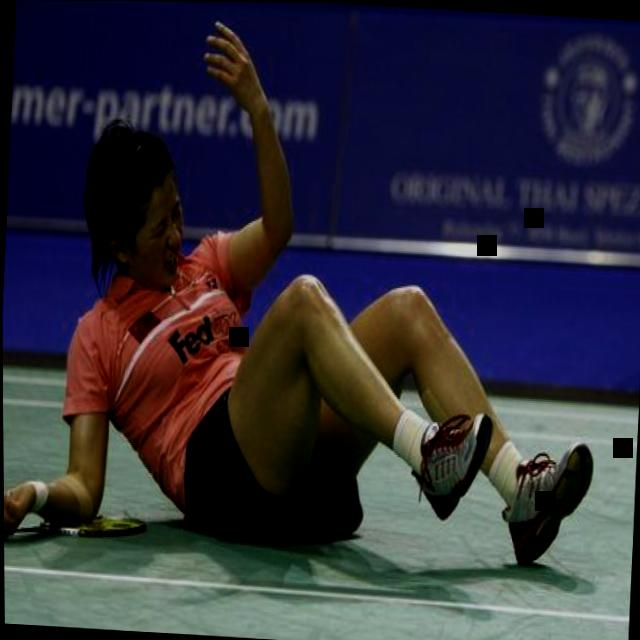Fall-Detected: (22, 0, 612, 574)
